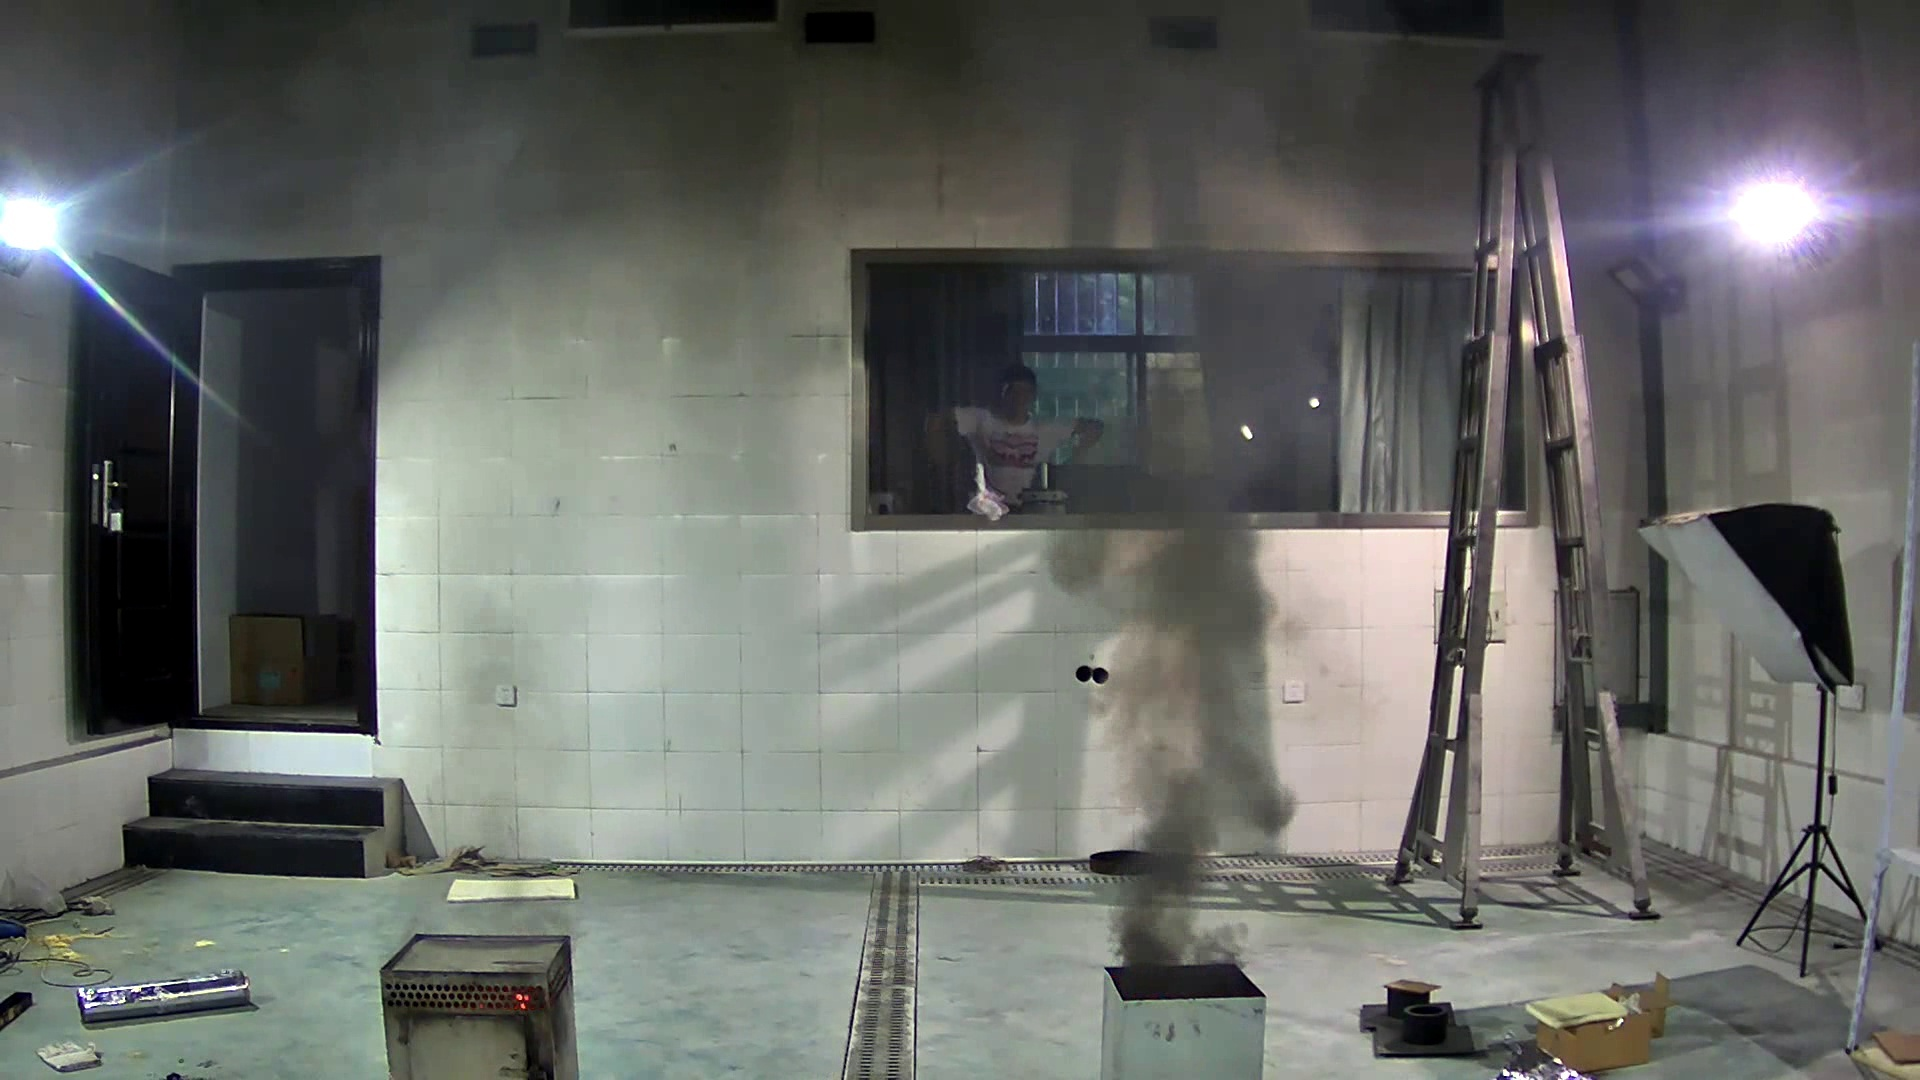smoke: (1071, 393, 1325, 963)
